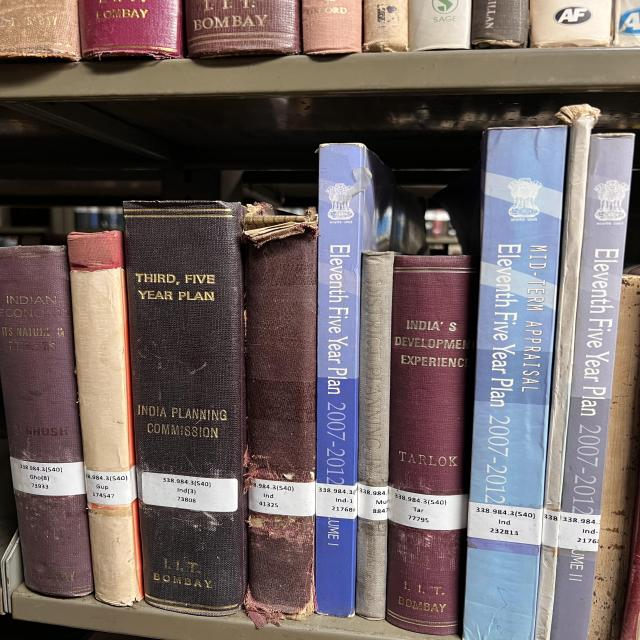Book: (463, 126, 567, 640), (123, 201, 247, 616), (550, 135, 633, 640), (315, 144, 390, 616), (385, 255, 477, 635), (535, 104, 600, 640), (0, 246, 93, 596), (243, 210, 318, 628), (68, 231, 143, 606), (355, 251, 395, 620), (0, 0, 183, 60), (185, 0, 300, 59), (363, 0, 472, 51), (530, 0, 612, 48), (302, 0, 362, 55), (472, 0, 530, 49), (613, 0, 640, 48)
Label: (142, 472, 238, 512), (388, 486, 468, 530), (468, 502, 543, 545), (10, 458, 85, 496), (248, 479, 315, 516), (85, 466, 137, 505), (558, 511, 602, 551), (315, 482, 358, 519), (357, 484, 388, 521), (542, 509, 560, 548)
